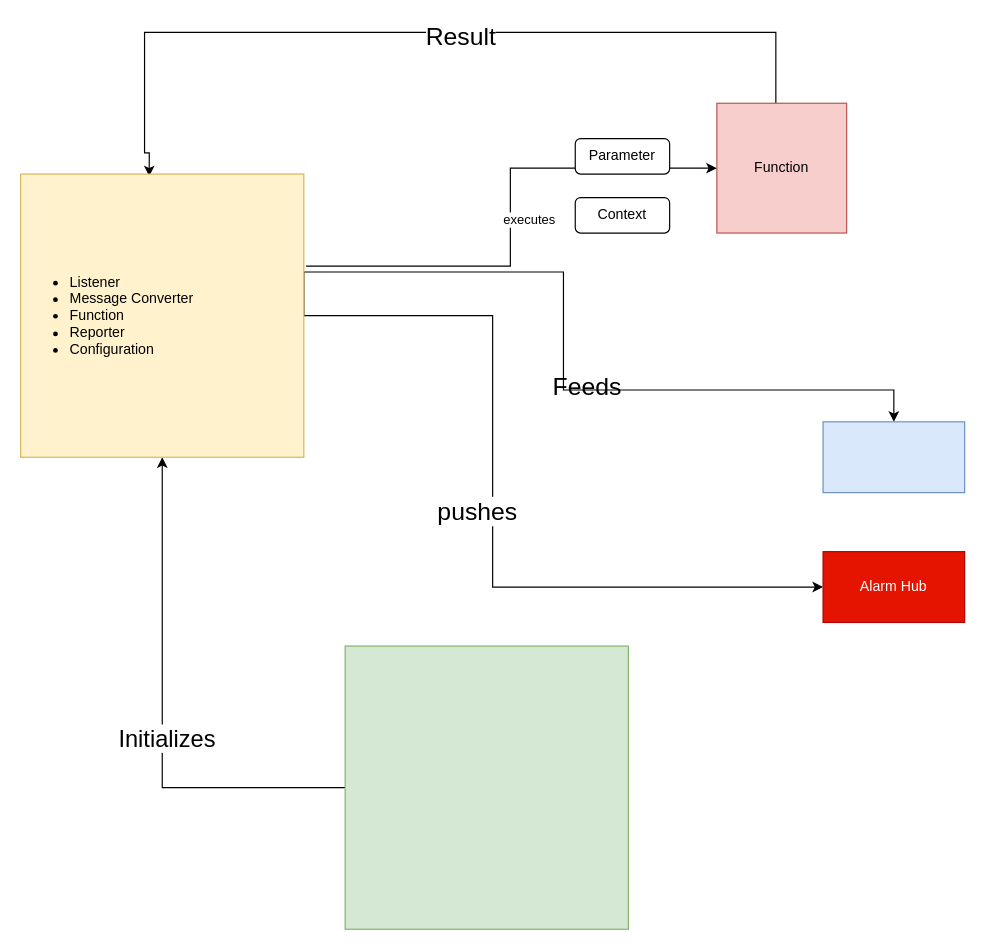
This 985x950 diagram has some shape labels left out. Here are the shapes that lost their labels. From the top down, the centre of each, then its label:
At (x=893, y=457): "Metric Hub".
At (x=486, y=787): "Tracker Scaling Unit Set of Channels".
